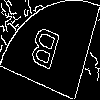B: (25, 25, 63, 80)
